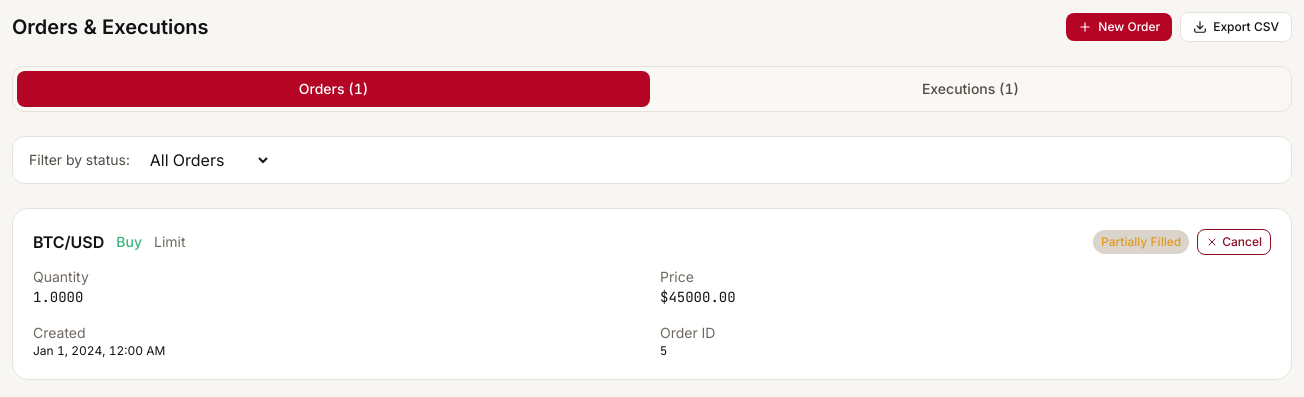
Orders › displays execution card without fees
Click the button "Executions (1)" at (970, 89), box [654,71,1287,107]
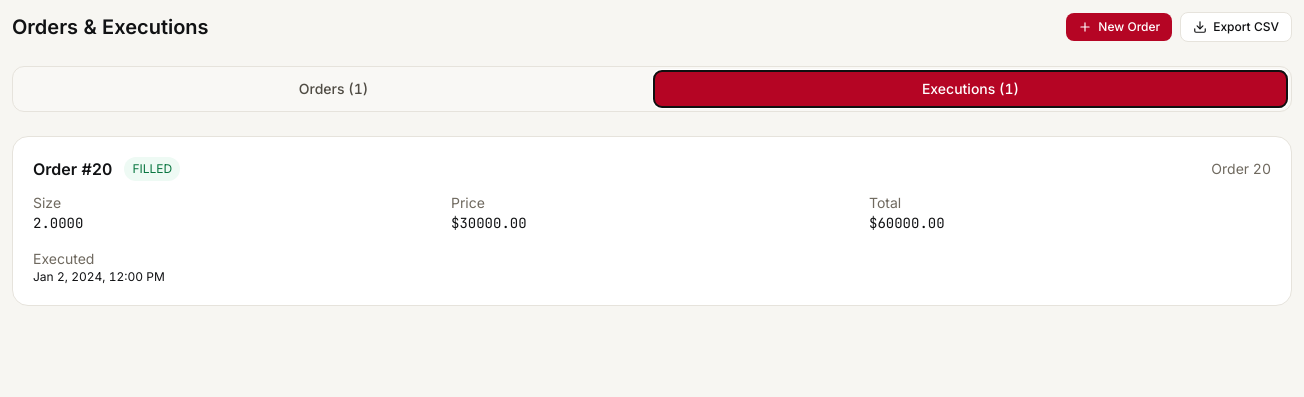
Check: the text "Order #20" is shown, box [33,157,112,181]
